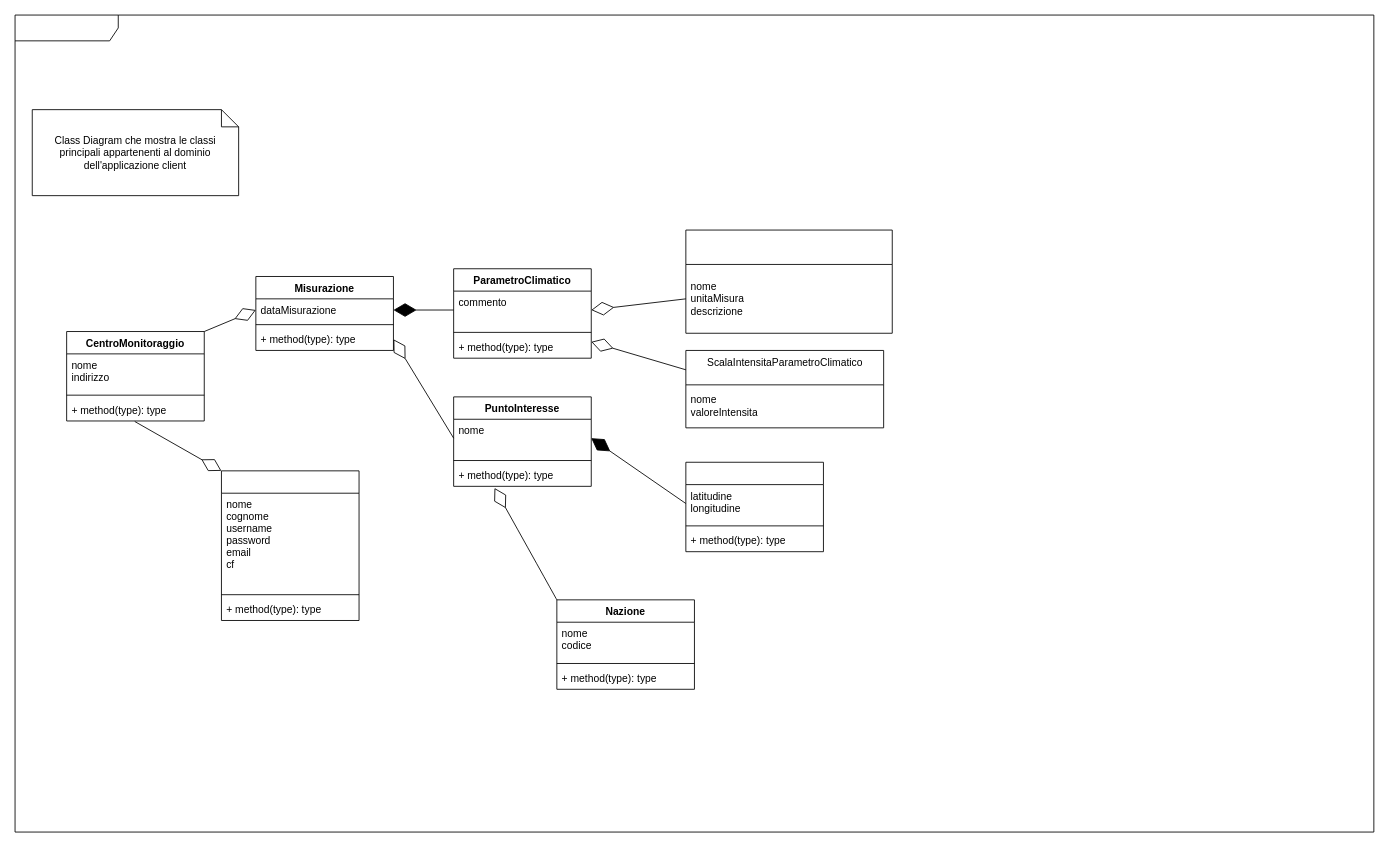
Image size: 1389x847. Some labels were removed from this diagram. The shapes that lost their labels are listed below. From the top down, each one's box as (x1, y1, x2, y2) in pixels, then its label:
(685, 229, 892, 333): CategoriaParametroClimatico
(685, 461, 823, 552): CoordinateGeografiche
(221, 470, 359, 620): Utente
